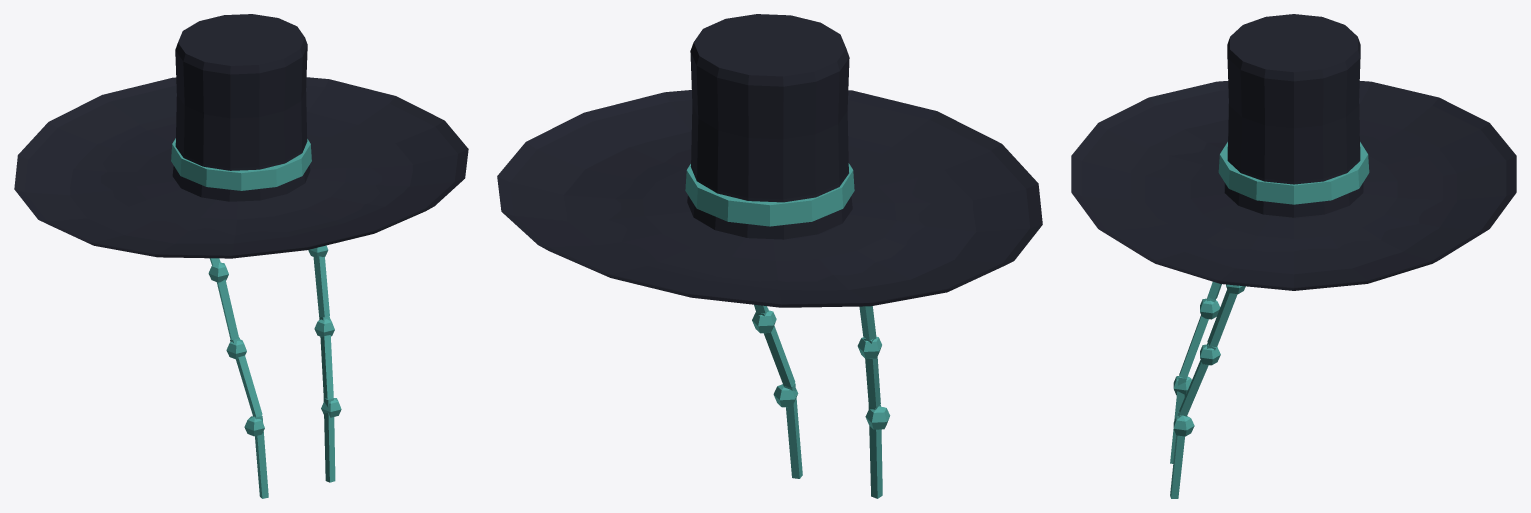
File: gear_gat_t2.glb
3 views of the same model, side by side, from view 1: azimuth 30°, elevation 25°; view 2: azimuth 150°, elevation 25°; view 3: azimuth 270°, elevation 25° (orthographic). The views are drawn at different scales.
Visible parts, largest first — view 1: gear_gat_t2; view 2: gear_gat_t2; view 3: gear_gat_t2.
Part boxes in pixels (<box>): gear_gat_t2: <box>14,14,468,498</box>; gear_gat_t2: <box>497,14,1042,498</box>; gear_gat_t2: <box>1071,14,1516,498</box>.
Bounding box in the file's own units: 0.86 × 0.8278 × 0.7622.
